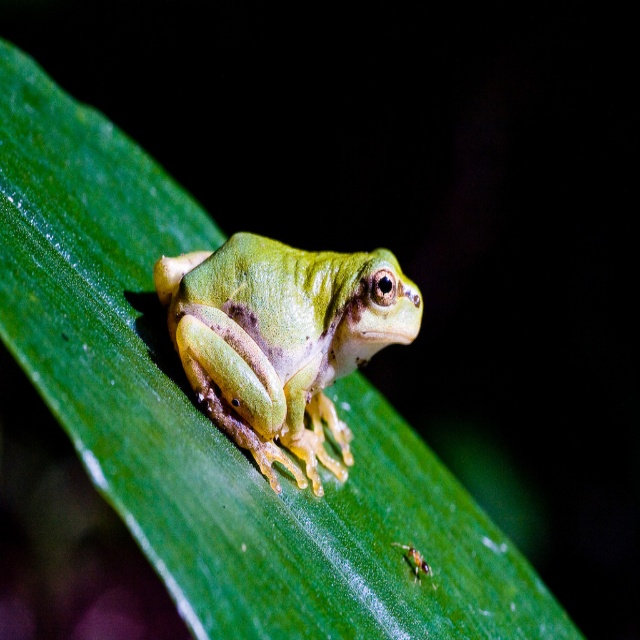Frog: (153, 230, 424, 497)
